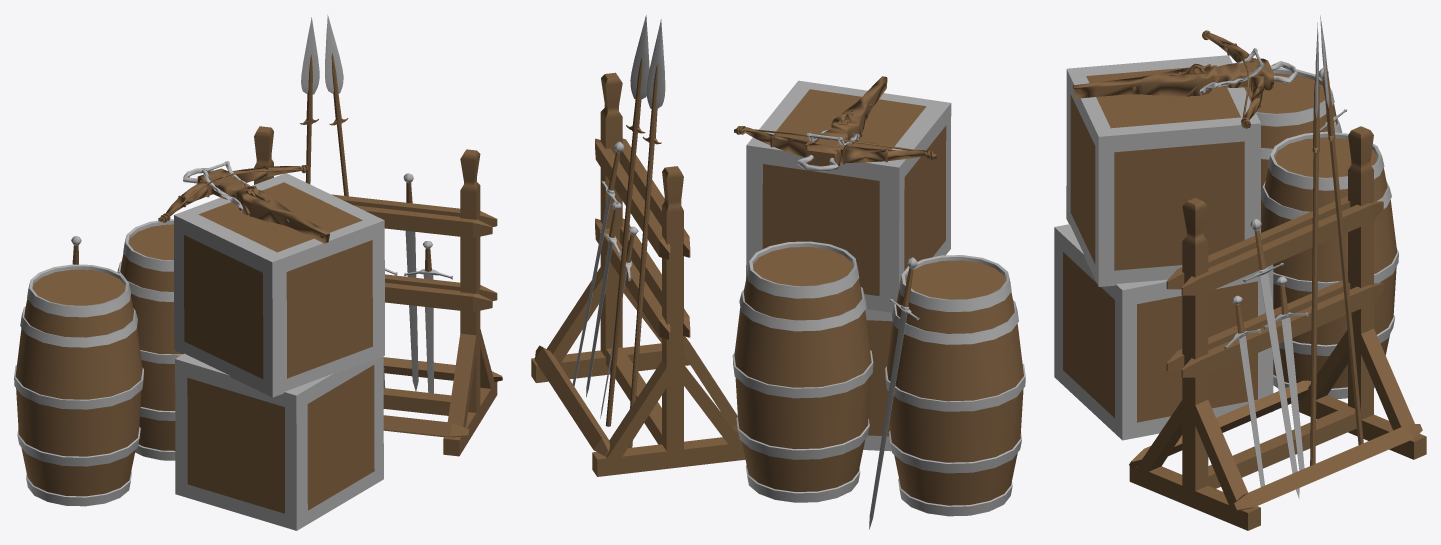
File: weapon_stand.glb
The picture shows the model from 3 angles, left to right: view 1: azimuth 30°, elevation 25°; view 2: azimuth 150°, elevation 25°; view 3: azimuth 270°, elevation 25°; orthographic projection. The views are drawn at different scales.
Parts seen in each view (by area): view 1: Cube.001, Cube, mesh_id4.002, mesh_id7.001, mesh_id4.001, mesh_id6.001, mesh_id10.001, mesh_id9.001, mesh_id11.001, mesh_id14.001; view 2: mesh_id4.001, mesh_id4.002, mesh_id7.001, Cube.001, mesh_id6.001, mesh_id10.001, mesh_id9.001, Cube, mesh_id12.001, mesh_id11.001, mesh_id14.001; view 3: mesh_id7.001, Cube.001, Cube, mesh_id4.001, mesh_id6.001, mesh_id4.002, mesh_id10.001, mesh_id9.001, mesh_id11.001, mesh_id15.001, mesh_id14.001.
Part boxes in pixels (<box>): Cube.001: <box>174,173,384,397</box>; Cube: <box>175,353,383,530</box>; mesh_id4.002: <box>14,264,143,506</box>; mesh_id7.001: <box>254,126,502,456</box>; mesh_id4.001: <box>117,219,182,460</box>; mesh_id6.001: <box>158,161,329,243</box>; mesh_id10.001: <box>325,14,348,196</box>; mesh_id9.001: <box>300,17,319,184</box>; mesh_id11.001: <box>403,173,418,391</box>; mesh_id14.001: <box>404,241,452,393</box>; mesh_id4.001: <box>732,241,873,502</box>; mesh_id4.002: <box>885,255,1025,516</box>; mesh_id7.001: <box>531,72,745,476</box>; Cube.001: <box>746,80,951,312</box>; mesh_id6.001: <box>734,76,936,171</box>; mesh_id10.001: <box>605,15,649,426</box>; mesh_id9.001: <box>628,19,665,447</box>; Cube: <box>863,309,892,451</box>; mesh_id12.001: <box>869,257,919,529</box>; mesh_id11.001: <box>572,141,624,386</box>; mesh_id14.001: <box>586,201,621,397</box>; mesh_id7.001: <box>1129,126,1426,530</box>; Cube.001: <box>1066,55,1260,286</box>; Cube: <box>1054,224,1273,440</box>; mesh_id4.001: <box>1261,131,1398,399</box>; mesh_id6.001: <box>1072,30,1298,128</box>; mesh_id4.002: <box>1244,68,1342,200</box>; mesh_id10.001: <box>1310,22,1319,465</box>; mesh_id9.001: <box>1320,15,1363,444</box>; mesh_id11.001: <box>1243,219,1299,498</box>; mesh_id15.001: <box>1263,276,1308,470</box>; mesh_id14.001: <box>1224,295,1264,486</box>.
Size of the model in its own units: 2.5 by 2.08 by 1.57.
